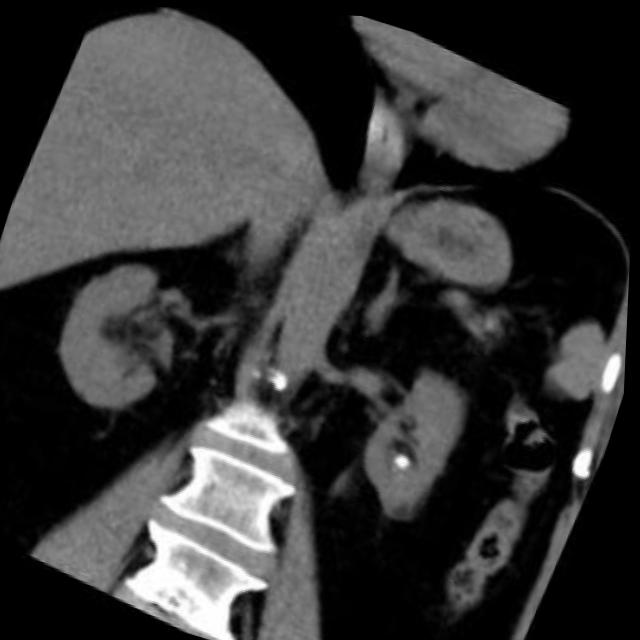Tas_Var: (386, 435, 427, 477)
